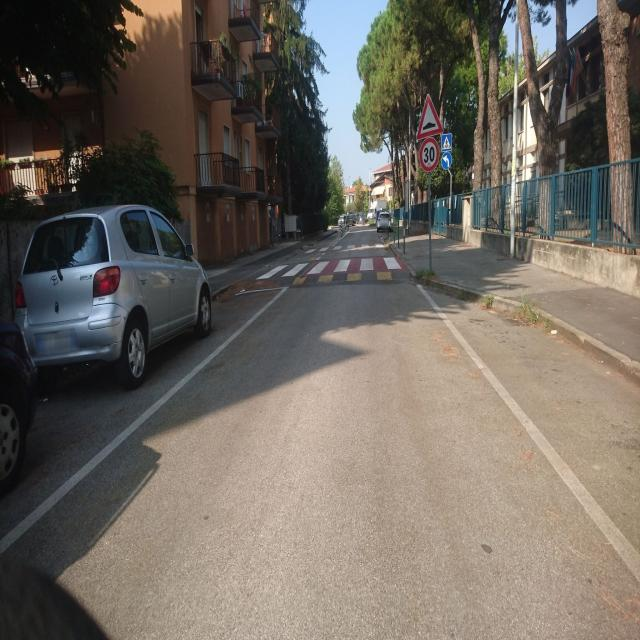car: (14, 203, 212, 388), (0, 311, 38, 499), (376, 210, 391, 234), (338, 214, 350, 234)
